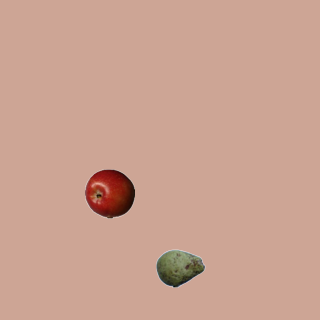Apple Braeburn: (84, 168, 134, 218)
Pear Stone: (155, 243, 205, 293)
